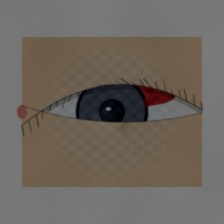hemorrhage_spot: (89, 56, 189, 135)
